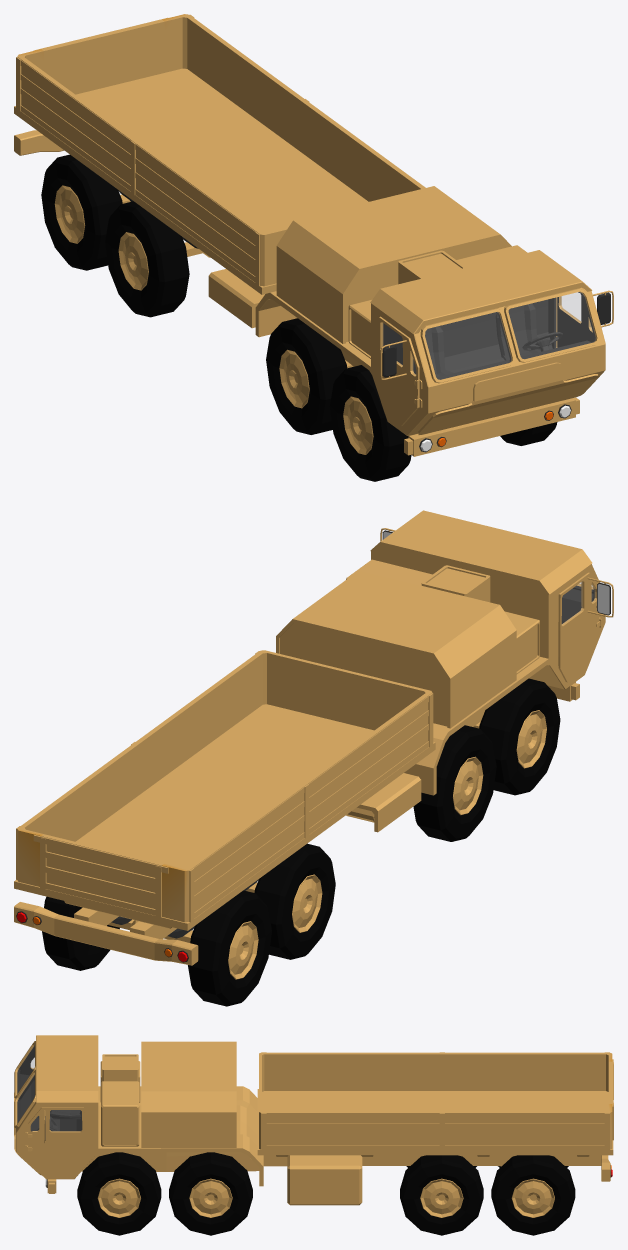
The picture shows the model from 3 angles, top to bottom: view 1: azimuth 30°, elevation 25°; view 2: azimuth 150°, elevation 25°; view 3: azimuth 270°, elevation 25°; orthographic projection. The views are drawn at different scales.
Parts seen in each view (by area): view 1: Plane, Cube, Plane.002, Cylinder.002, Plane.004, Cylinder.001, Cylinder.003, Plane.005, Cylinder.004, Plane.001, Plane.003, Cylinder; view 2: Plane, Cube, Cylinder.003, Plane.005, Cylinder.004, Cylinder.002, Cylinder.001, Plane.001, Cylinder.007; view 3: Plane, Cube, Cylinder, Cylinder.005, Cylinder.007, Cylinder.006, Plane.003, Plane.004, Plane.002, Plane.005.
Part boxes in pixels (box(x1,y1,x2,y2)): Plane: box(14, 14, 605, 456); Cube: box(120, 186, 527, 368); Plane.002: box(425, 292, 595, 379); Cylinder.002: box(105, 201, 189, 317); Plane.004: box(383, 292, 595, 379); Cylinder.001: box(266, 318, 347, 434); Cylinder.003: box(41, 154, 122, 270); Plane.005: box(33, 17, 167, 94); Cylinder.004: box(329, 365, 411, 481); Plane.001: box(378, 316, 419, 425); Plane.003: box(557, 290, 613, 347); Cylinder: box(500, 422, 557, 445); Plane: box(14, 510, 605, 965); Cube: box(108, 559, 539, 942); Cylinder.003: box(188, 890, 271, 1006); Plane.005: box(33, 834, 168, 917); Cylinder.004: box(479, 678, 560, 795); Cylinder.002: box(254, 843, 335, 959); Cylinder.001: box(413, 725, 496, 841); Plane.001: box(558, 572, 613, 682); Cylinder.007: box(42, 896, 119, 970); Plane: box(14, 1035, 613, 1193); Cube: box(100, 1041, 501, 1205); Cylinder: box(77, 1152, 161, 1235); Cylinder.005: box(169, 1152, 252, 1235); Cylinder.007: box(491, 1155, 575, 1235); Cylinder.006: box(400, 1155, 483, 1235); Plane.003: box(28, 1107, 84, 1174); Plane.004: box(17, 1045, 82, 1131); Plane.002: box(17, 1044, 34, 1122); Plane.005: box(608, 1059, 613, 1140).
Bounding box in the file's own units: 380 × 310 × 1180.
